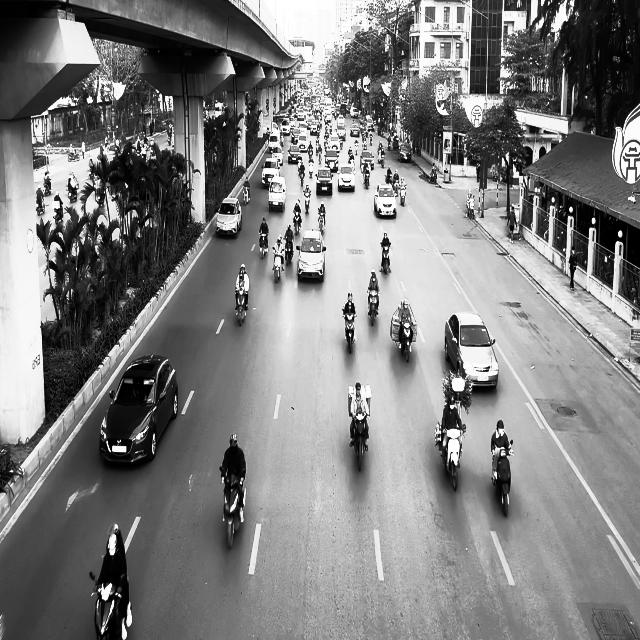car: (99, 353, 179, 465), (444, 312, 499, 388), (296, 229, 327, 281), (216, 197, 242, 237), (374, 183, 397, 218), (268, 176, 286, 212), (338, 162, 355, 192), (316, 167, 333, 195), (398, 143, 412, 162)
motorbike: (90, 572, 126, 640), (221, 468, 246, 548), (492, 438, 514, 516), (441, 426, 463, 490), (350, 410, 369, 472), (343, 310, 357, 354), (399, 320, 413, 362), (367, 288, 380, 326), (235, 287, 247, 326), (273, 247, 284, 282), (380, 242, 392, 274), (259, 232, 269, 258), (284, 239, 294, 264), (293, 212, 302, 235), (318, 208, 326, 233), (36, 193, 45, 215), (363, 164, 371, 188), (304, 188, 311, 214), (400, 185, 407, 206), (243, 185, 250, 205), (298, 166, 305, 186)
